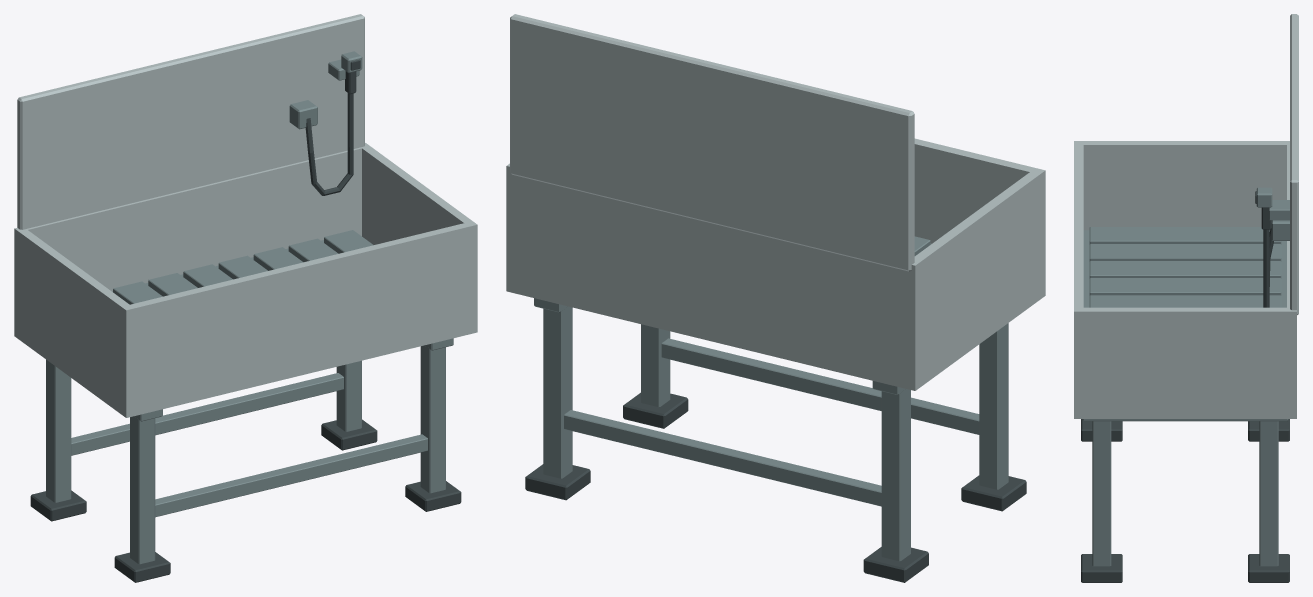
3 renders of one model, left to right at view 1: azimuth 30°, elevation 25°; view 2: azimuth 150°, elevation 25°; view 3: azimuth 270°, elevation 25°, orthographic. The views are drawn at different scales.
Parts seen in each view (by area): view 1: Thick open wash basin, Splash back, Low frame tie, Low frame tie.001, Raised fixed leg, Raised fixed leg.002, Raised fixed leg.001, Raised fixed leg.003, Fixed parked hose, Ground foot.001, Ground foot, Ground foot.002 (+9 smaller); view 2: Thick open wash basin, Splash back, Low frame tie.001, Low frame tie, Raised fixed leg.001, Raised fixed leg.003, Raised fixed leg, Raised fixed leg.002, Ground foot, Ground foot.003, Ground foot.002, Ground foot.001; view 3: Thick open wash basin, Standing grate slat 4, Standing grate slat 3, Standing grate slat 2, Standing grate slat 1, Raised fixed leg.003, Raised fixed leg.002, Splash back, Standing grate slat 5, Ground foot.002, Ground foot.003, Fixed parked hose (+8 smaller).
Part boxes in pixels (box(x1,y1,x2,y2)): Thick open wash basin: box(14, 143, 477, 417); Splash back: box(17, 14, 364, 229); Low frame tie: box(155, 434, 427, 517); Low frame tie.001: box(71, 373, 343, 455); Raised fixed leg: box(130, 416, 155, 564); Raised fixed leg.002: box(420, 345, 445, 493); Raised fixed leg.001: box(46, 359, 71, 502); Raised fixed leg.003: box(336, 360, 361, 431); Fixed parked hose: box(305, 93, 353, 195); Ground foot.001: box(30, 490, 86, 521); Ground foot: box(114, 552, 170, 582); Ground foot.002: box(405, 481, 461, 511); Thick open wash basin: box(506, 138, 1045, 390); Splash back: box(510, 14, 914, 271); Low frame tie.001: box(564, 410, 881, 506); Low frame tie: box(661, 338, 979, 434); Raised fixed leg.001: box(881, 389, 910, 561); Raised fixed leg.003: box(543, 306, 572, 478); Raised fixed leg: box(979, 323, 1008, 489); Raised fixed leg.002: box(641, 324, 670, 407); Ground foot: box(961, 475, 1026, 511); Ground foot.003: box(525, 464, 590, 500); Ground foot.002: box(623, 392, 688, 428); Ground foot.001: box(863, 547, 928, 582); Thick open wash basin: box(1074, 141, 1296, 418); Standing grate slat 4: box(1089, 278, 1281, 295); Standing grate slat 3: box(1089, 261, 1281, 278); Standing grate slat 2: box(1089, 244, 1281, 261); Standing grate slat 1: box(1089, 227, 1281, 244); Raised fixed leg.003: box(1259, 421, 1278, 566); Raised fixed leg.002: box(1092, 421, 1111, 566); Splash back: box(1290, 14, 1298, 314); Standing grate slat 5: box(1089, 295, 1281, 307); Ground foot.002: box(1081, 554, 1122, 582); Ground foot.003: box(1248, 554, 1289, 582); Fixed parked hose: box(1263, 228, 1273, 307).
Size of the model in its own units: 1.16 by 1.29 by 0.646.
